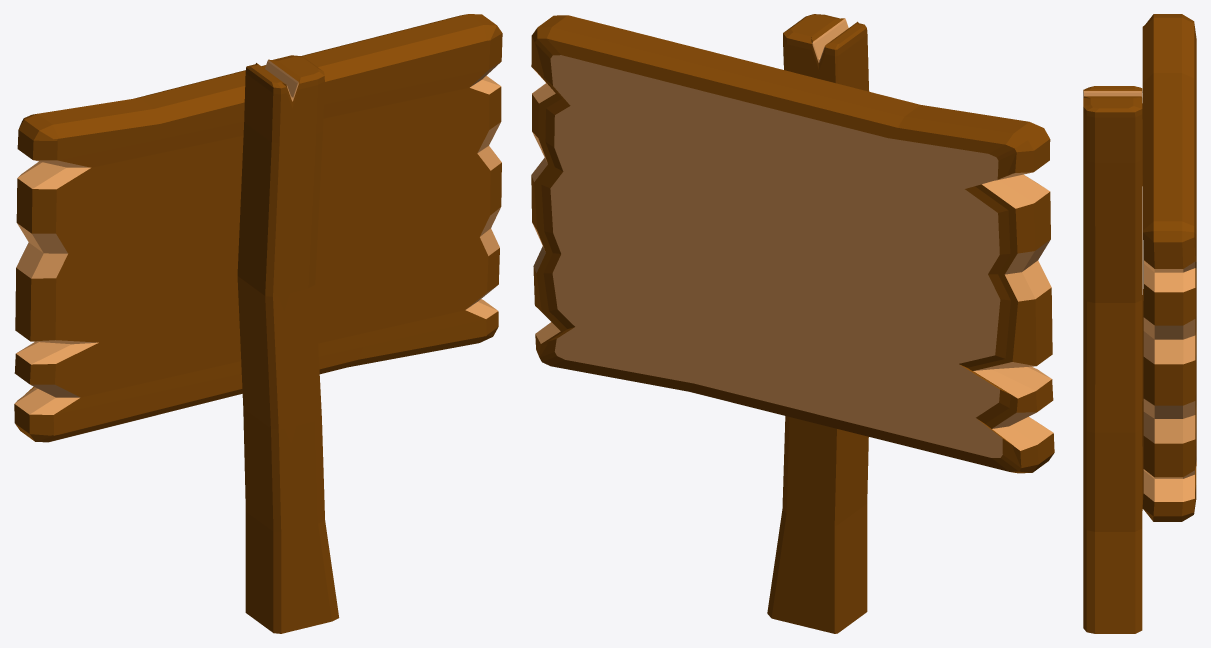
Rendered from panneau.glb.
3 renders of one model, left to right at view 1: azimuth 30°, elevation 25°; view 2: azimuth 150°, elevation 25°; view 3: azimuth 270°, elevation 25°, orthographic. The views are drawn at different scales.
Visible parts, largest first — view 1: Cube.001, Cube; view 2: Cube.001, Cube; view 3: Cube, Cube.001.
Boxes of the visible parts, x1=… form: Cube.001: x1=14, y1=14, x2=502, y2=442; Cube: x1=237, y1=55, x2=339, y2=633; Cube.001: x1=531, y1=15, x2=1054, y2=473; Cube: x1=767, y1=14, x2=869, y2=633; Cube: x1=1083, y1=86, x2=1142, y2=633; Cube.001: x1=1142, y1=14, x2=1196, y2=521.
Size of the model in its own units: 3.33 by 3.68 by 0.7328.
